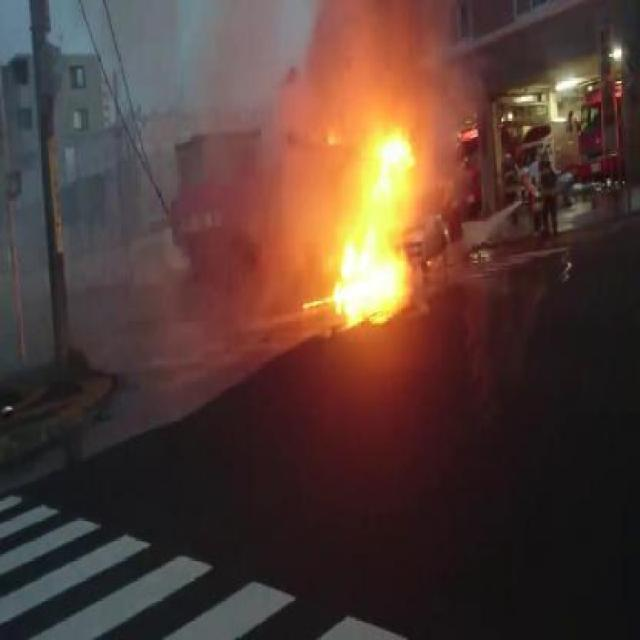Fire: (331, 225, 414, 323), (370, 134, 422, 197), (303, 294, 331, 304), (327, 132, 341, 148)
